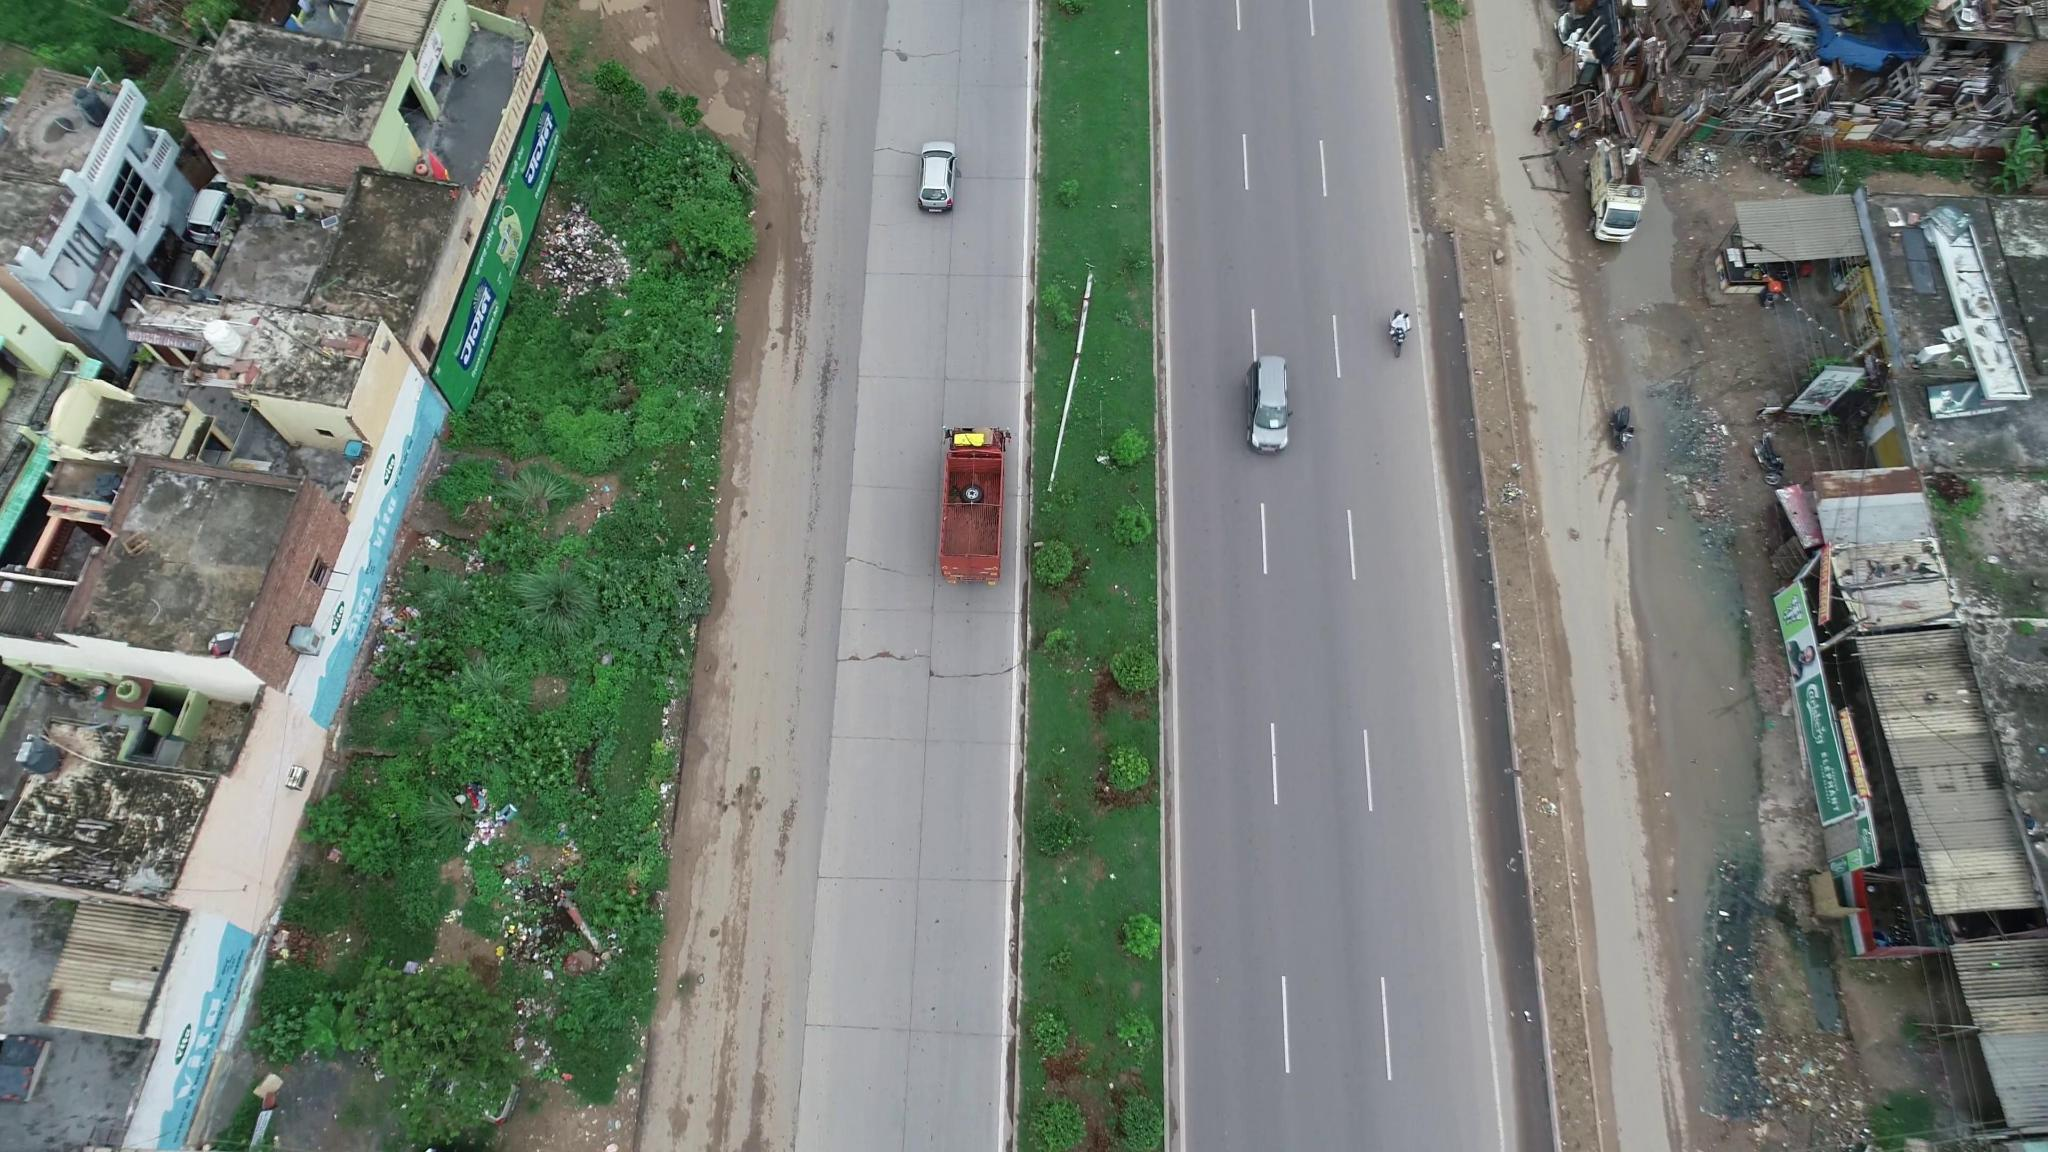Waterlogging: (1619, 511, 1760, 850)
